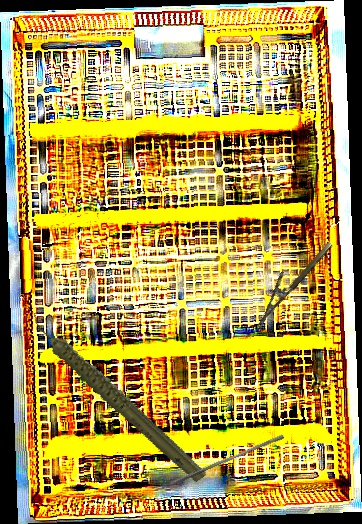Handpiece: (28, 281, 208, 510)
Needle Holder: (244, 231, 334, 329)
Pusher: (167, 430, 286, 491)
